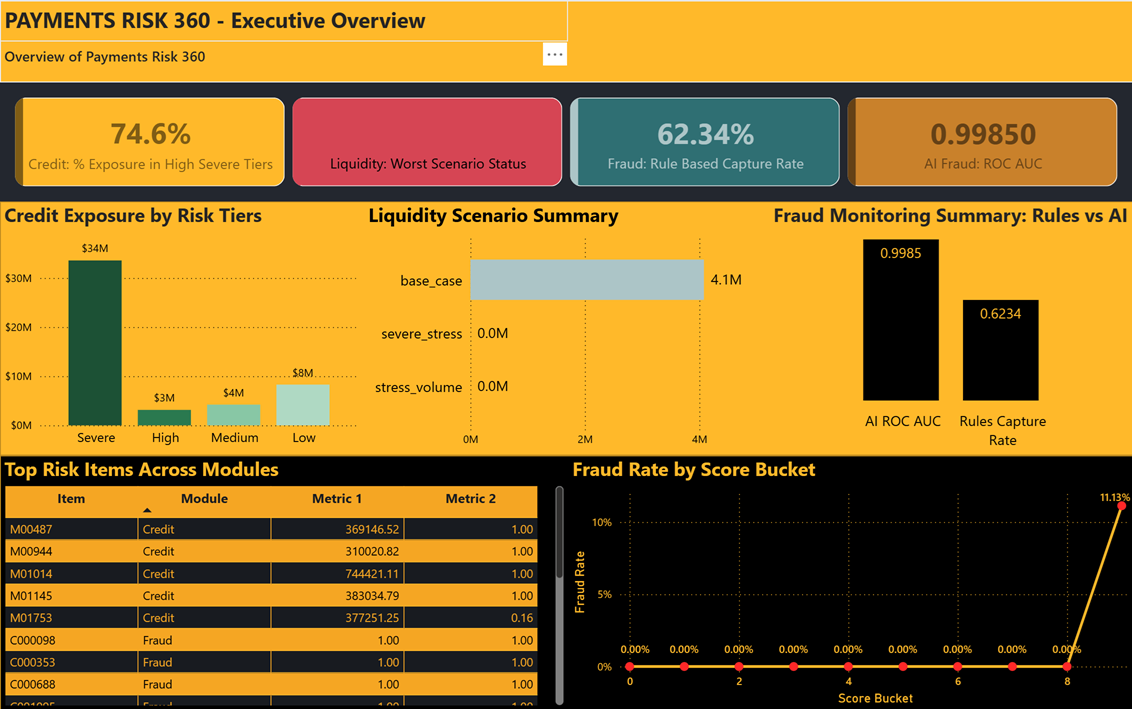

The dashboard page shown, as its layout file describes it:
{"tool":"powerbi","page":{"name":"Executive Overview","canvas":[1280,800],"ordinal":0},"visuals":[{"type":"shape","title":"Title_Shape","box":[0,0,1280,92.5],"z":0,"group":"g3"},{"type":"shape","title":"Middle_Row_Shape","box":[0,226.7,1280,286.4],"z":0,"group":"g2"},{"type":"group","id":"g1","title":"Bottom_Group","box":[0,513.1,1280,287.6],"z":0},{"type":"shape","title":"Bottom_Row_Shape","box":[0,513.1,1280,287.6],"z":0,"group":"g1"},{"type":"lineChart","fields":{"Y":["Sum(fraud_score_buckets_summary.fraud_rate)"],"Category":["fraud_score_buckets_summary.score_bucket"]},"box":[640.6,513.1,639.4,286.4],"z":125,"group":"g1"},{"type":"tableEx","title":"Top Risk Items Across Modules","fields":{"Values":["top_risk_items.Item","top_risk_items.Module","top_risk_items.Metric 1","top_risk_items.Metric 2"]},"box":[0,513.1,640.6,286.4],"z":250,"group":"g1"},{"type":"group","id":"g2","title":"Middle_Row_Group","box":[0,226.7,1282.3,286.4],"z":500},{"type":"textbox","title":"Subtitle_ Textbox","box":[0,46.2,640.6,46.2],"z":1000,"group":"g3"},{"type":"cardVisual","title":"KPI_Card","fields":{"Data":["all_measures.Pct_Exposure_High_Severe","all_measures.Worst Scenario Severity","Sum(fraud_portfolio_kri_overview.fraud_capture_rate)","Sum(fraud_ml_metrics.roc_auc)"]},"box":[0,92.5,1280,134.2],"z":1000},{"type":"clusteredColumnChart","title":"Fraud Monitoring Summary: Rules vs AI","fields":{"Category":["executive_fraud_metrics.Metric"],"Y":["all_measures.Executive_Fraud_Metric_Value"]},"box":[867.2,226.7,415,286.4],"z":1000,"group":"g2"},{"type":"group","id":"g3","title":"Title_Group","box":[0,0,1280,92.5],"z":2000},{"type":"textbox","title":"Title_ Textbox","box":[0,0,640.6,46.2],"z":2000,"group":"g3"},{"type":"clusteredBarChart","title":"Liquidity Scenario Summary","fields":{"Category":["intraday_liquidity_kri_summary.scenario"],"Y":["Sum(intraday_liquidity_kri_summary.min_buffer_available)"]},"box":[410.5,226.7,456.7,286.4],"z":2000,"group":"g2"},{"type":"clusteredColumnChart","title":"Credit Exposure by Risk Tiers","fields":{"Category":["credit_risk_features.risk_tier"],"Y":["all_measures.Total_Net_Exposure"]},"box":[0,226.7,410.5,286.4],"z":3000,"group":"g2"}]}

Visuals, with their boxes in screenshot pixels (x1, y1, x2, y2), scaled from the page's 1280x800 canvas onto the 1132x709 screenshot:
"Title_Shape" shape: BBox(0, 0, 1131, 82)
"Middle_Row_Shape" shape: BBox(0, 201, 1131, 455)
"Bottom_Group" group: BBox(0, 455, 1131, 708)
"Bottom_Row_Shape" shape: BBox(0, 455, 1131, 708)
lineChart - Sum(fraud_score_buckets_summary.fraud_rate) x fraud_score_buckets_summary.score_bucket: BBox(567, 455, 1131, 708)
"Top Risk Items Across Modules" tableEx: BBox(0, 455, 567, 708)
"Middle_Row_Group" group: BBox(0, 201, 1131, 455)
"Subtitle_ Textbox" textbox: BBox(0, 41, 567, 82)
"KPI_Card" cardVisual: BBox(0, 82, 1131, 201)
"Fraud Monitoring Summary: Rules vs AI" clusteredColumnChart: BBox(767, 201, 1131, 455)
"Title_Group" group: BBox(0, 0, 1131, 82)
"Title_ Textbox" textbox: BBox(0, 0, 567, 41)
"Liquidity Scenario Summary" clusteredBarChart: BBox(363, 201, 767, 455)
"Credit Exposure by Risk Tiers" clusteredColumnChart: BBox(0, 201, 363, 455)
